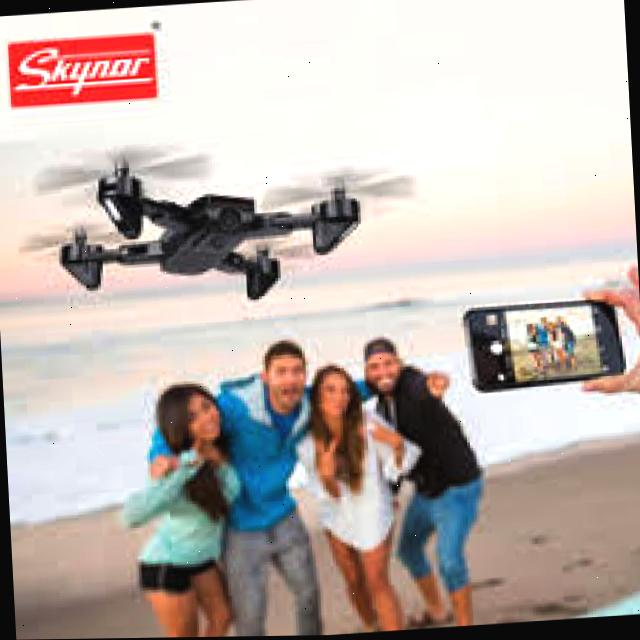drone: (15, 120, 416, 349)
